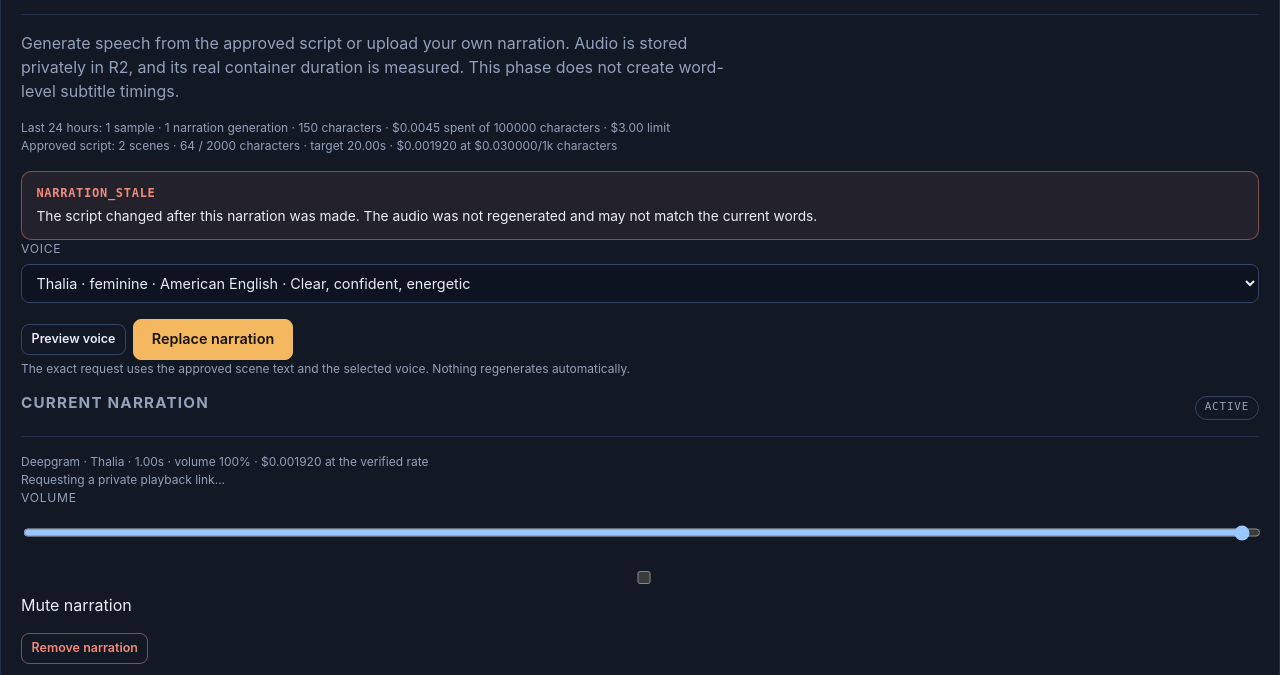
Test: NarrationPanel › shows staleness and lets the user mute or remove narration
Check: the text "NARRATION_STALE" is shown, box [36,186,156,200]
Check: the text "was not regenerated" is shown, box [36,208,817,224]
Click the checkbox labelled "Mute narration": {"x": 644, "y": 578} [25,571,1263,584]
(page scrolled)
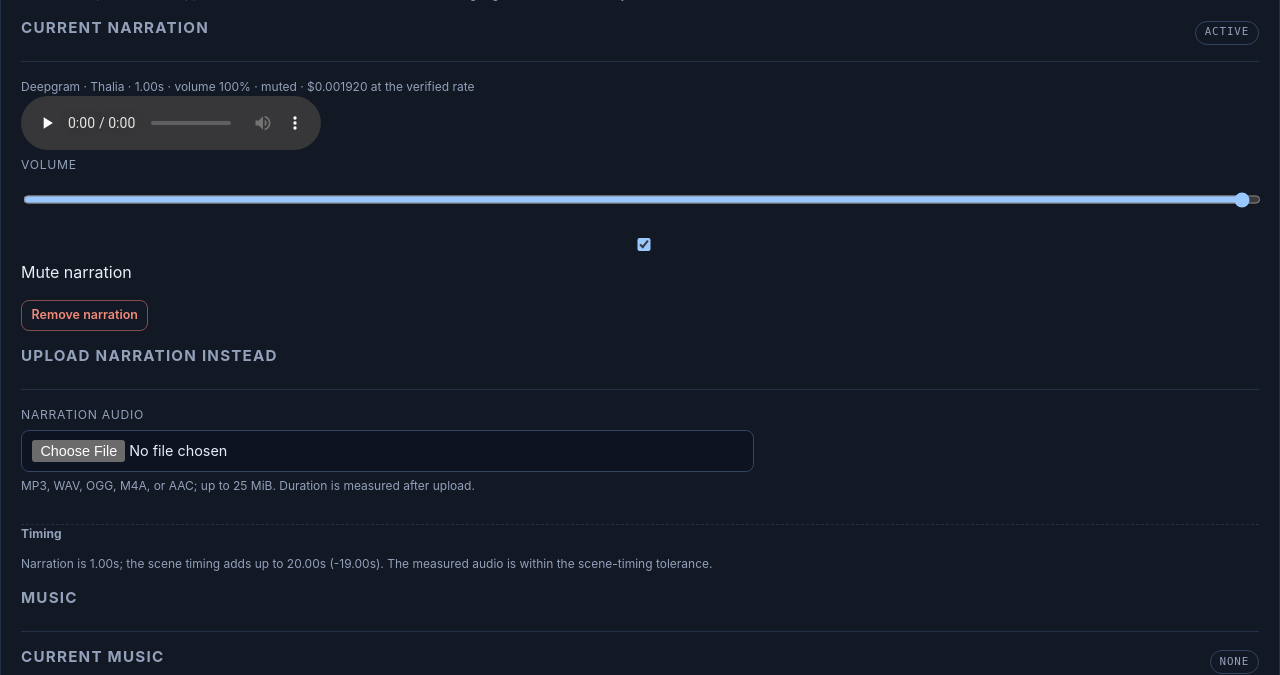
Click the button "Remove narration": {"x": 85, "y": 315} [21,300,148,331]
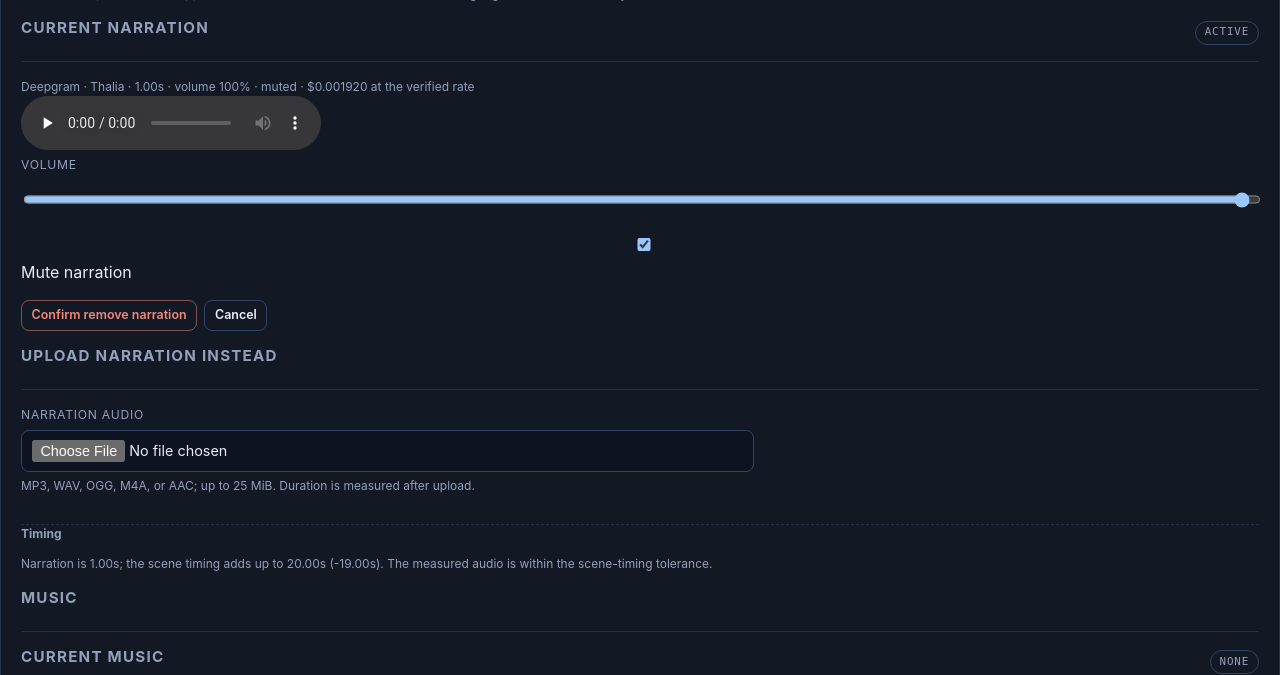
Click the button "Confirm remove narration": {"x": 109, "y": 315} [21,300,197,331]
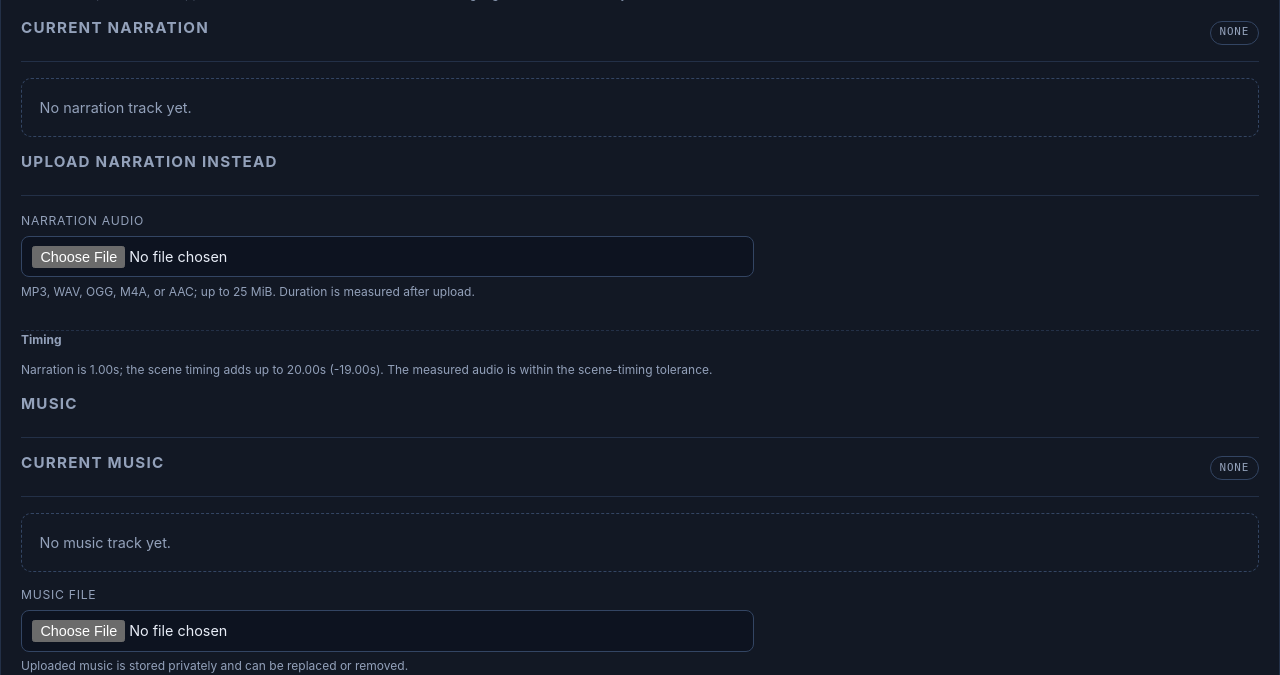
Check: the text "No narration track yet." is shown, box [21,78,1259,137]
